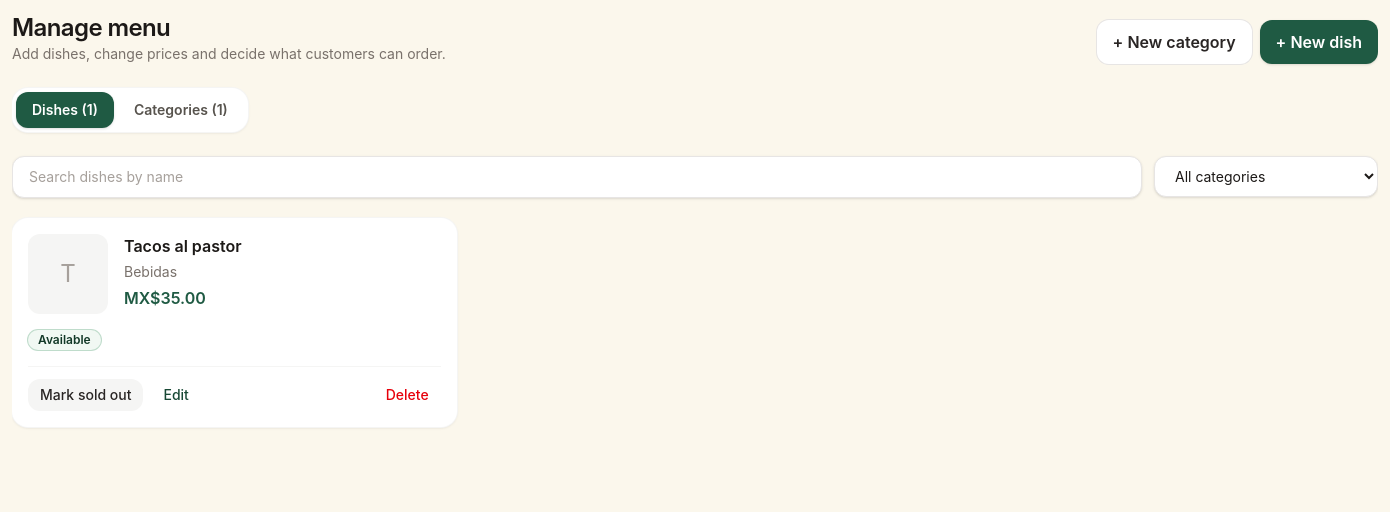
Test case: AdminMenuPage › marks a dish sold out with one click
Click the button "Mark sold out". click: coordinates (86, 395)
box: [28,379,144,411]
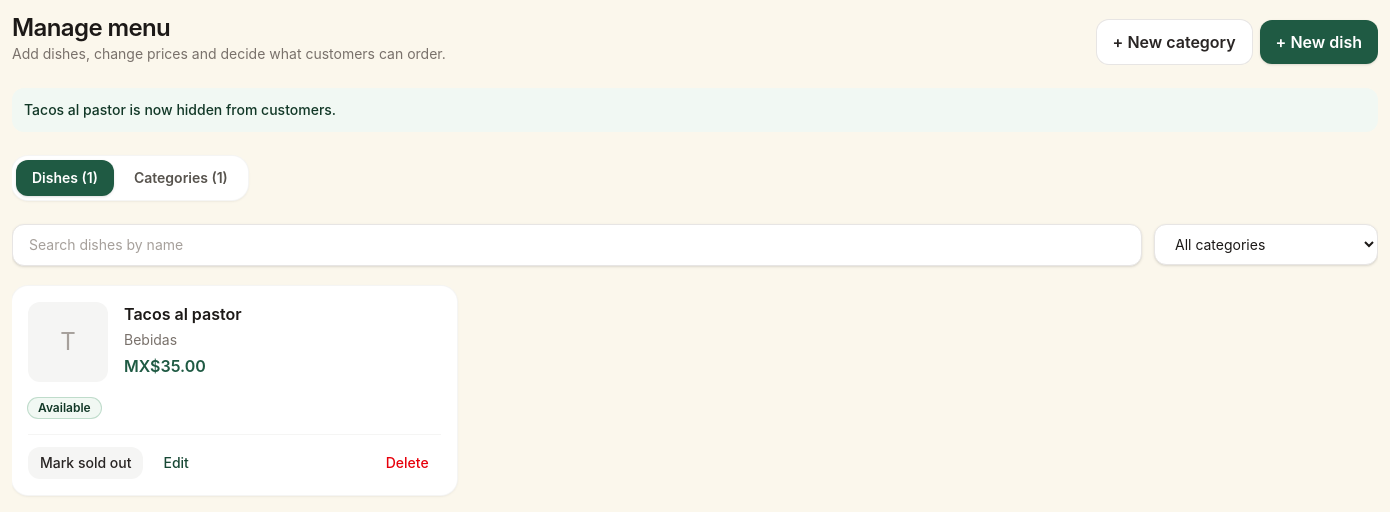
Now the message reads "Tacos al pastor is now hidden from customers.", box [24,101,336,118]
